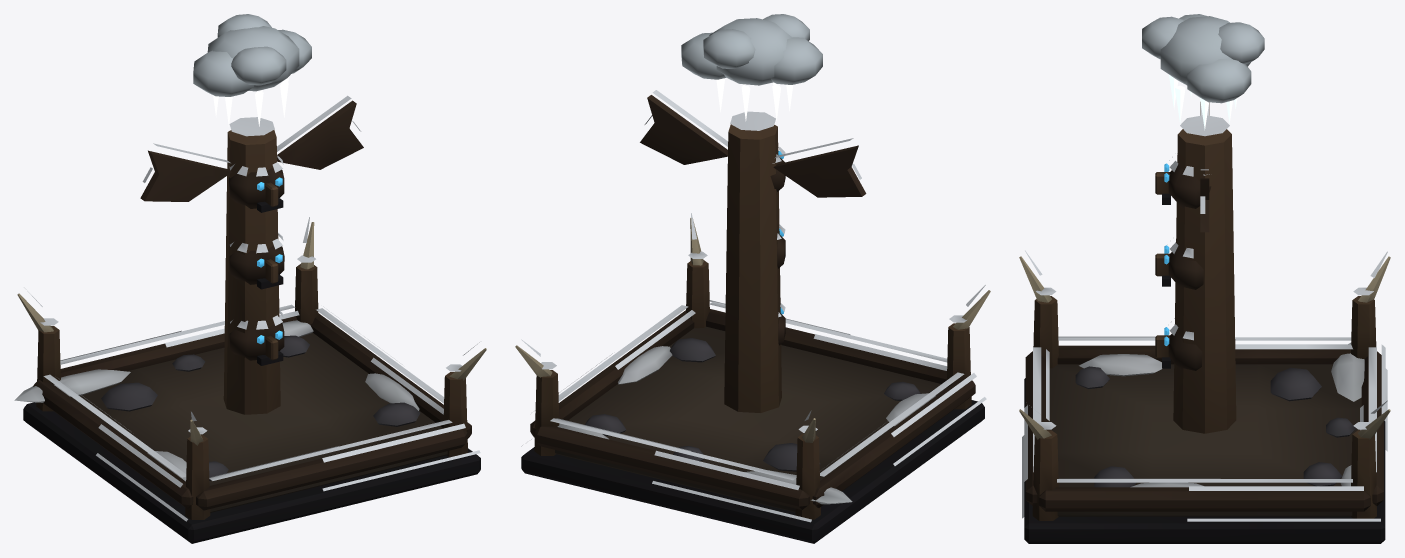
Rendered from horde-2.glb.
3 renders of one model, left to right at view 1: azimuth 30°, elevation 25°; view 2: azimuth 150°, elevation 25°; view 3: azimuth 270°, elevation 25°, orthographic. The views are drawn at different scales.
Parts seen in each view (by area): view 1: orage_2_architecture, Orbe_peint, Orbe_lueur; view 2: orage_2_architecture, Orbe_peint, Orbe_lueur; view 3: orage_2_architecture, Orbe_peint, Orbe_lueur.
Boxes of the visible parts, x1,y1,x2,y2 form: orage_2_architecture: (14,95,486,543); Orbe_peint: (193,14,311,96); Orbe_lueur: (213,77,288,126); orage_2_architecture: (515,90,990,543); Orbe_peint: (681,14,822,85); Orbe_lueur: (716,78,793,121); orage_2_architecture: (1019,102,1390,543); Orbe_peint: (1142,14,1264,103); Orbe_lueur: (1169,74,1237,130).
Size of the model in its own units: 0.8652 by 1.09 by 0.8237.
